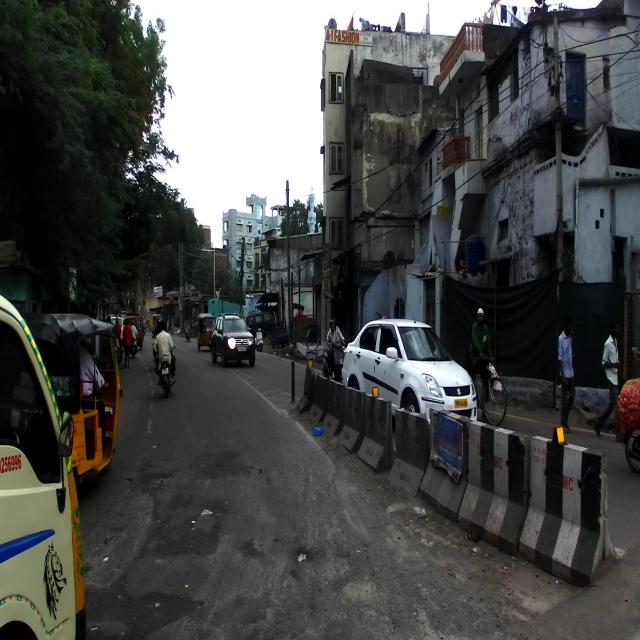autorickshaw: (18, 311, 123, 500)
car: (339, 314, 476, 418), (208, 312, 258, 366)
